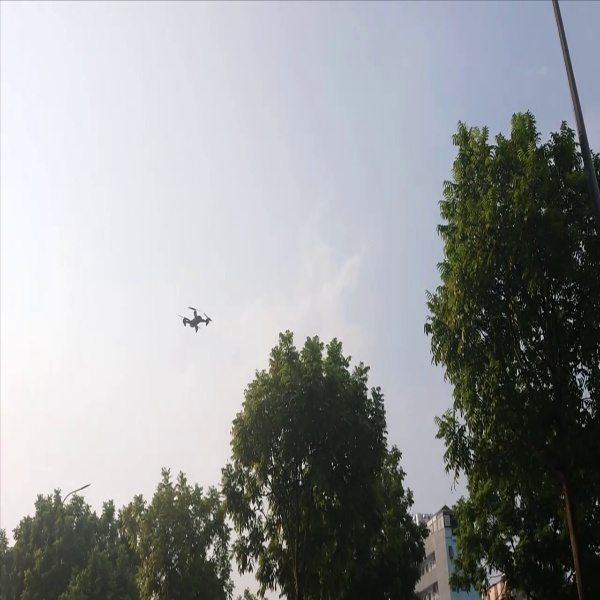drone: (173, 301, 223, 341)
